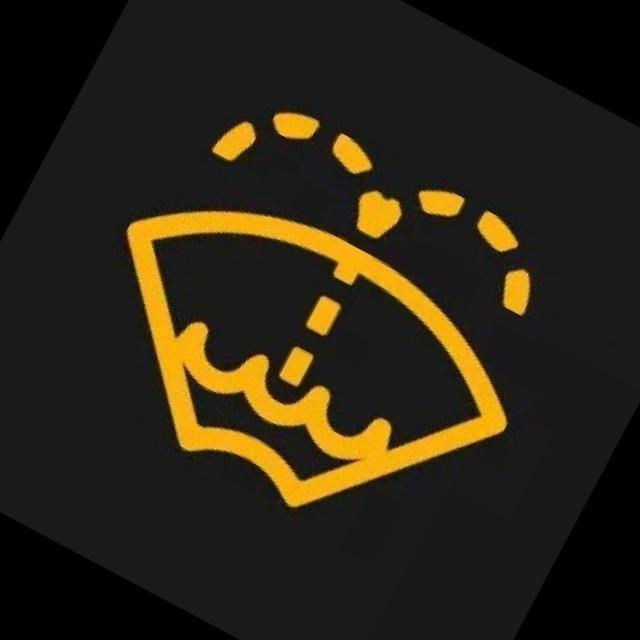Washer Fluid: (128, 110, 532, 506)
